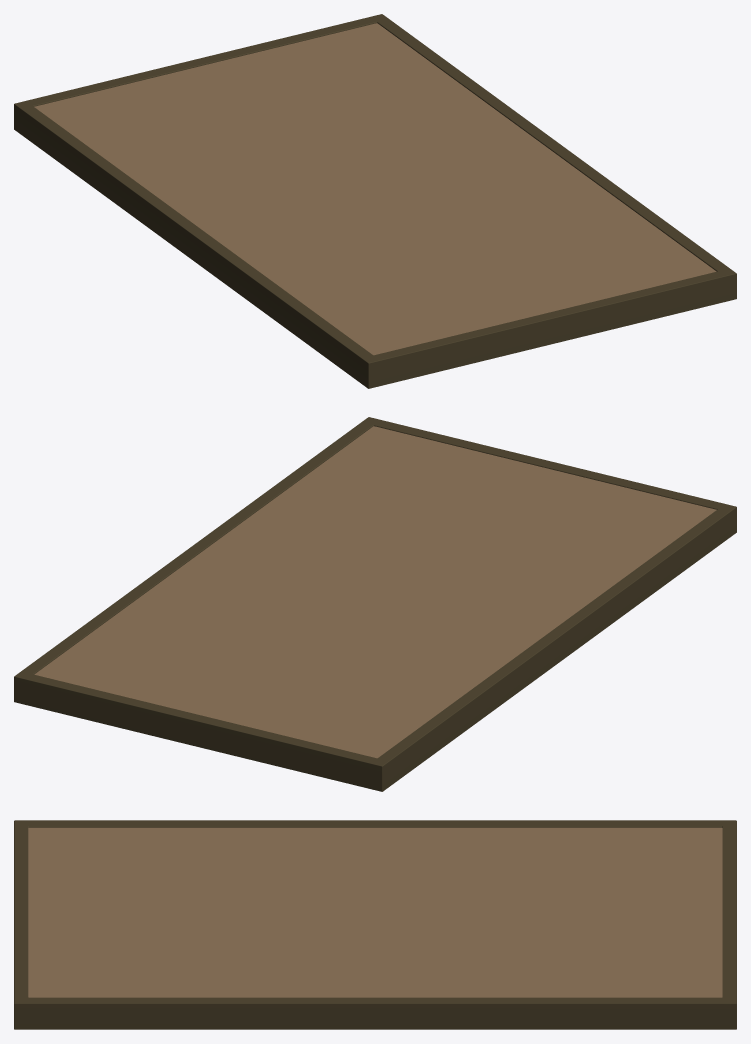
File: Eating_Area.FBX
3 renders of one model, top to bottom at view 1: azimuth 30°, elevation 25°; view 2: azimuth 150°, elevation 25°; view 3: azimuth 270°, elevation 25°, orthographic.
Parts seen in each view (by area): view 1: Eating_Area; view 2: Eating_Area; view 3: Eating_Area.
Boxes of the visible parts, <box> form: Eating_Area: <box>14,14,736,388</box>; Eating_Area: <box>14,417,736,791</box>; Eating_Area: <box>14,820,736,1029</box>.
Size of the model in its own units: 300 by 20 by 500.
